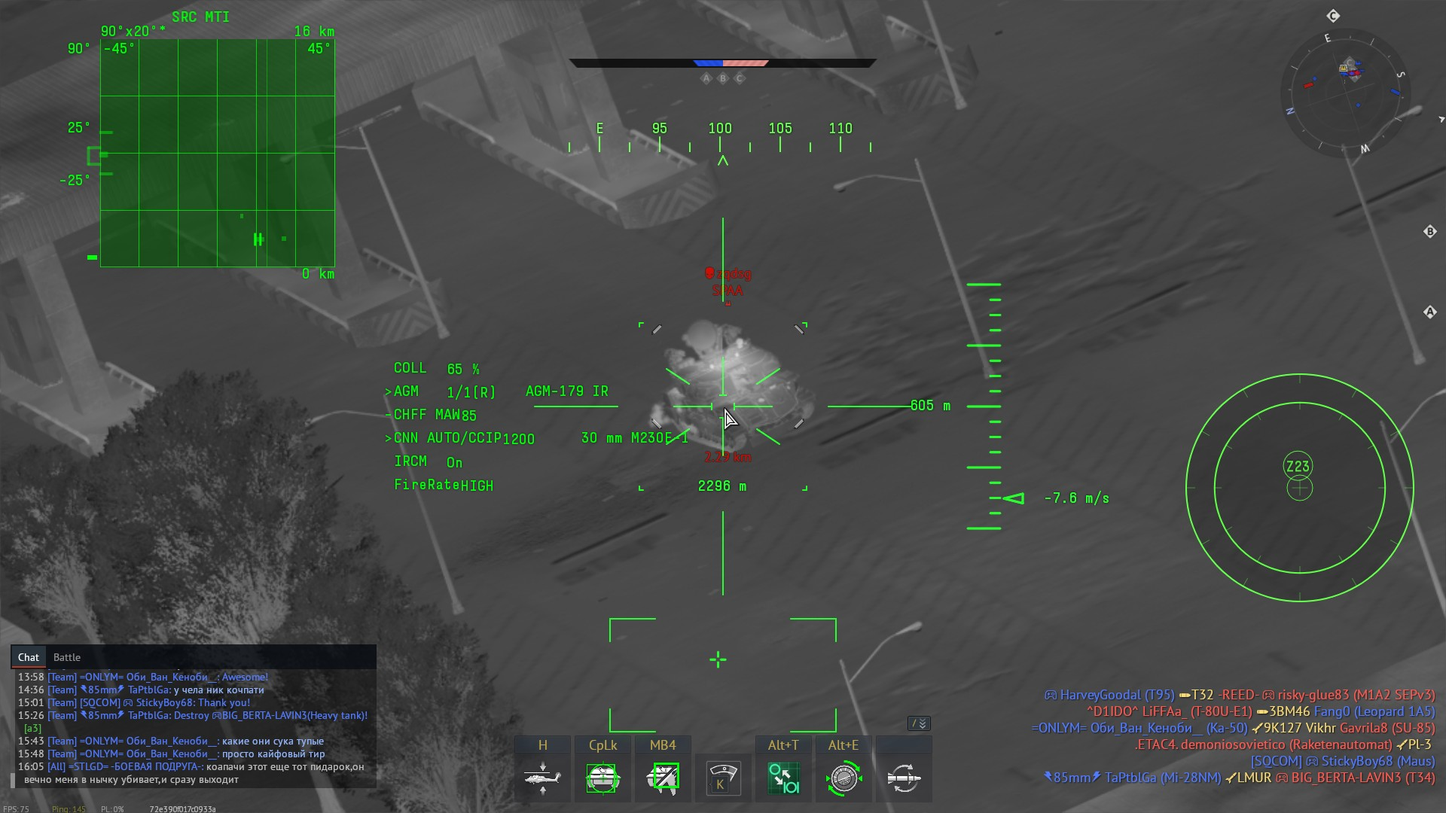spaa_zsu-23: (661, 320, 817, 453)
